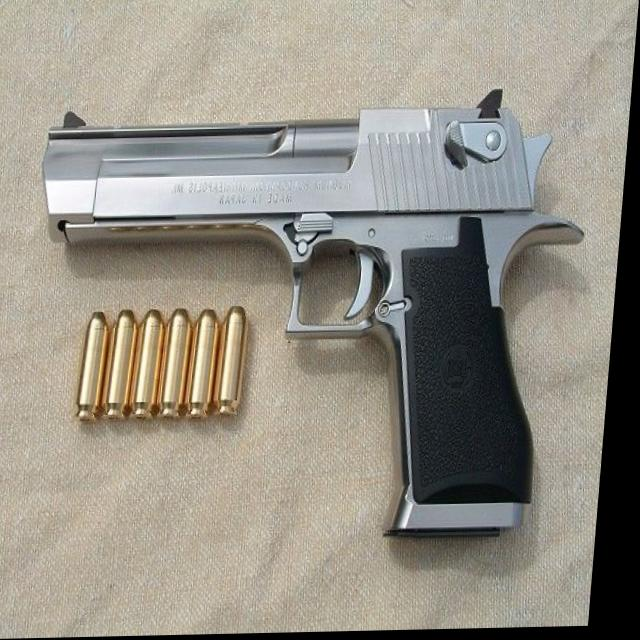handgun: (10, 82, 592, 561)
